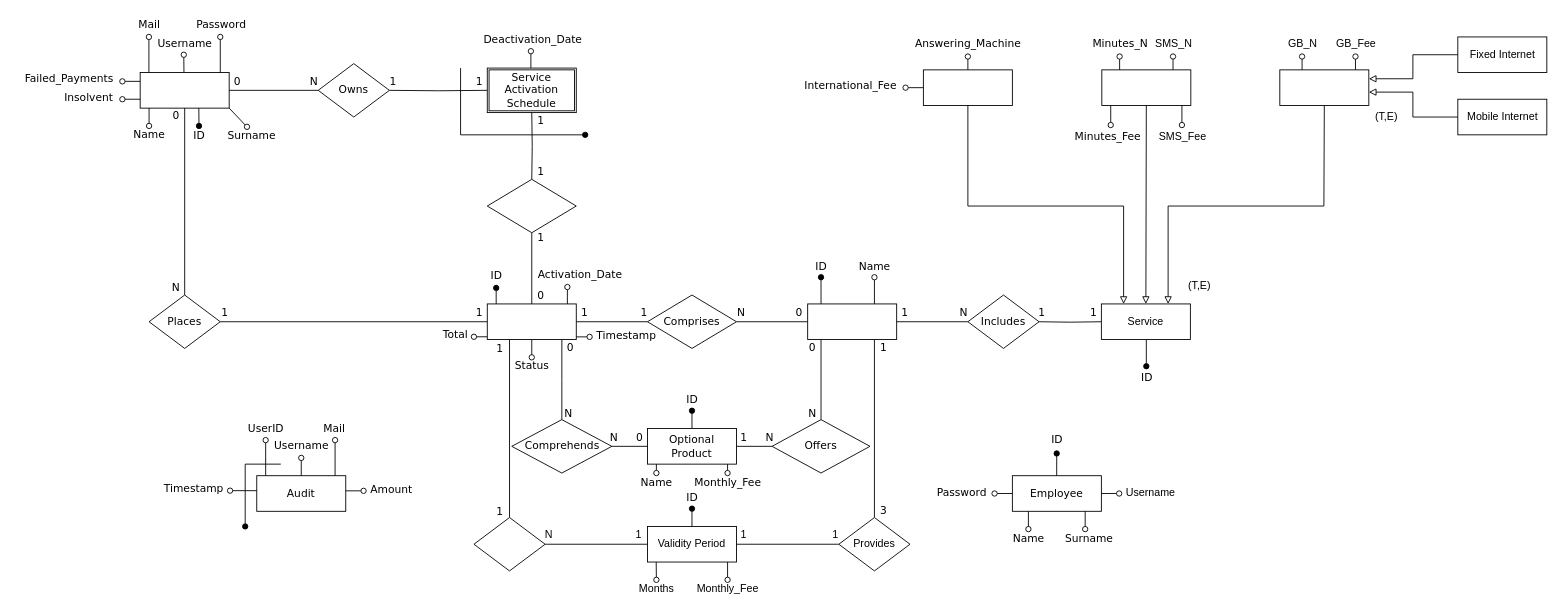
The diagram is 1562 pixels wide and 612 high, and some of its shapes have lost their labels. The shapes that lost their labels are listed below. From the top down, each one's box as (x1, y1, x2, y2) in pixels, then its label:
(139, 72, 229, 108): User
(922, 69, 1012, 105): Fixed Phone
(1101, 69, 1191, 105): Mobile Phone
(1279, 69, 1369, 105): Internet
(486, 178, 576, 233): Schedules
(486, 303, 576, 340): Order
(807, 303, 897, 340): Service Package
(473, 517, 545, 571): Lasts
